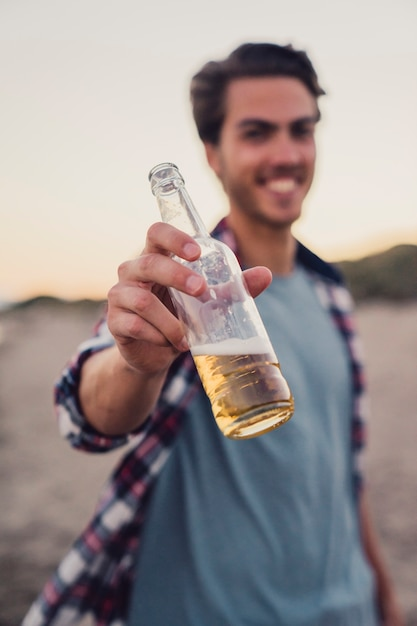alcohol: (146, 161, 296, 440)
